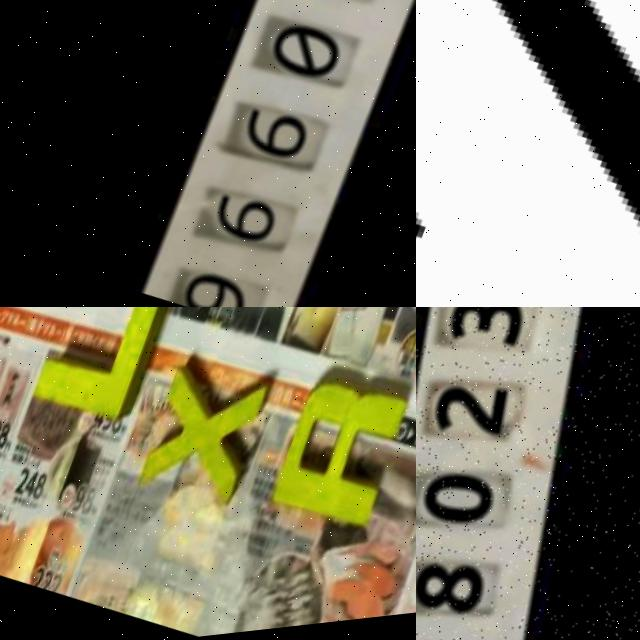0: (243, 9, 357, 111), (416, 447, 514, 565), (274, 0, 383, 23)
2: (416, 360, 528, 479)
3: (420, 307, 544, 388)
6: (215, 97, 320, 190), (184, 182, 288, 273)
8: (416, 535, 506, 640)
9: (159, 258, 260, 307)
L: (23, 307, 173, 438)
R: (262, 377, 409, 551)
X: (132, 351, 276, 521)
Z: (416, 0, 640, 307)
